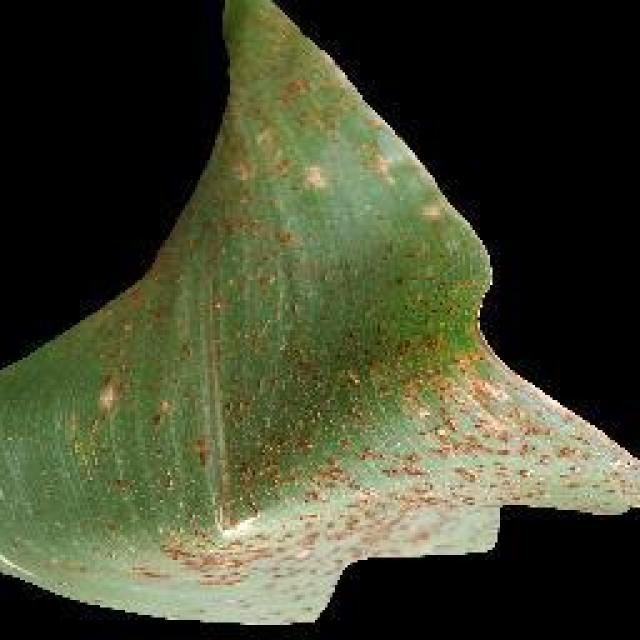Corn Common Rust: (143, 97, 510, 545)
